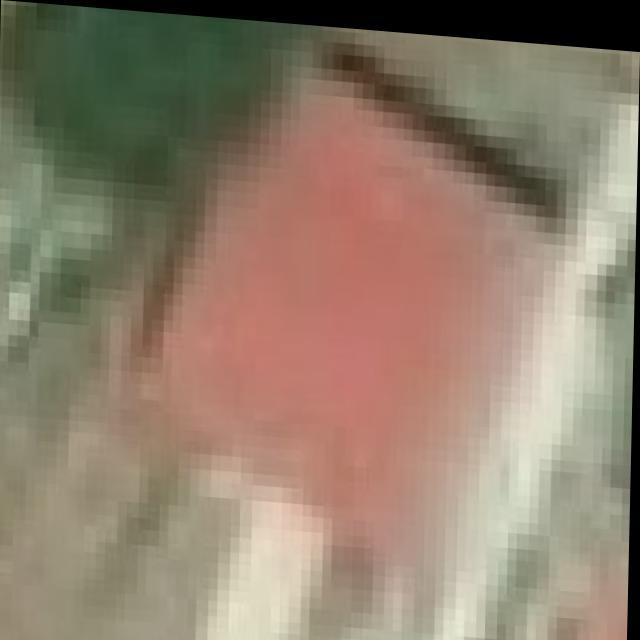Batiment: (166, 80, 565, 528)
